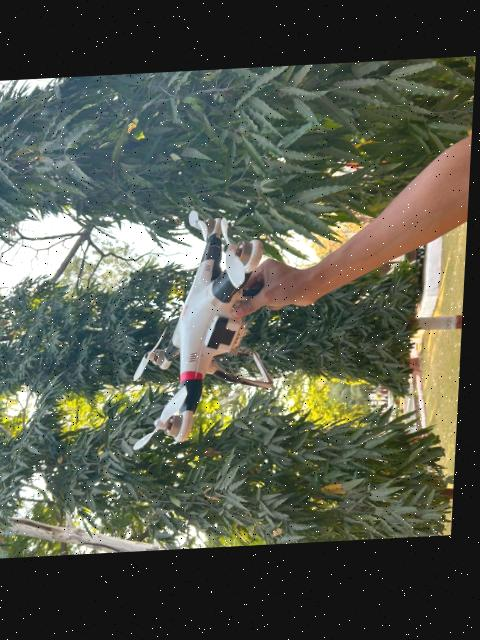drone: (116, 168, 317, 467)
